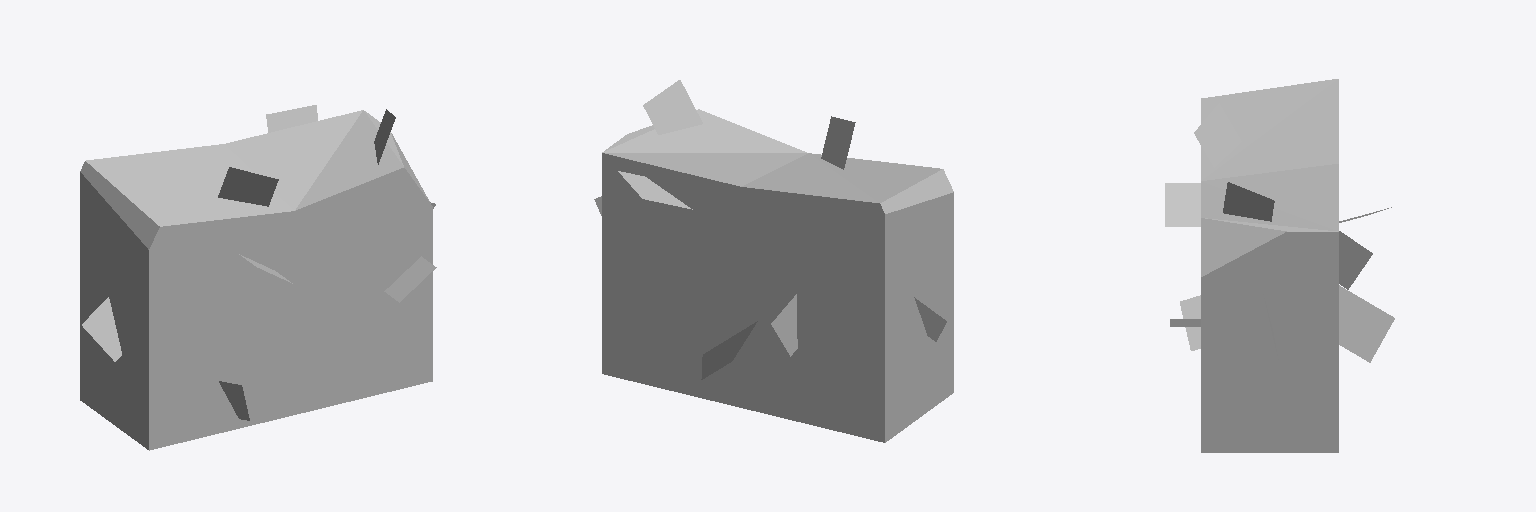
File: bush_wall_single_01.obj
3 views of the same model, side by side, from view 1: azimuth 30°, elevation 25°; view 2: azimuth 150°, elevation 25°; view 3: azimuth 270°, elevation 25° (orthographic).
Parts seen in each view (by area): view 1: Plane.004; view 2: Plane.004; view 3: Plane.004.
Part boxes in pixels (x1,y1,x2,y2): Plane.004: (80, 105, 436, 450); Plane.004: (594, 80, 953, 442); Plane.004: (1165, 79, 1394, 452).
Size of the model in its own units: 3.35 by 2.35 by 1.89.